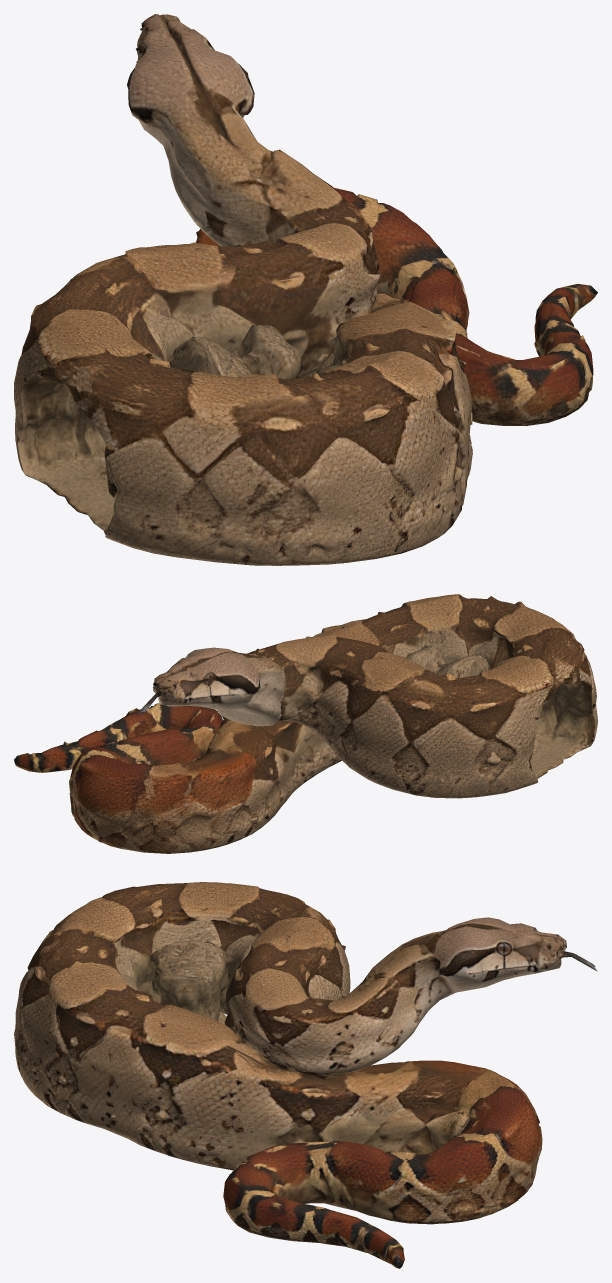
File: boa-tripo-h31.glb
3 renders of one model, top to bottom at view 1: azimuth 30°, elevation 25°; view 2: azimuth 150°, elevation 25°; view 3: azimuth 270°, elevation 25°, orthographic. The views are drawn at different scales.
Parts seen in each view (by area): view 1: tripo_node_11826964-1136-4bb8-baa5-68de366ca029; view 2: tripo_node_11826964-1136-4bb8-baa5-68de366ca029; view 3: tripo_node_11826964-1136-4bb8-baa5-68de366ca029.
Part boxes in pixels (x1,y1,x2,y2): tripo_node_11826964-1136-4bb8-baa5-68de366ca029: [14, 14, 597, 565]; tripo_node_11826964-1136-4bb8-baa5-68de366ca029: [14, 594, 597, 853]; tripo_node_11826964-1136-4bb8-baa5-68de366ca029: [14, 882, 597, 1268].
Bounding box in the file's own units: 0.9669 × 0.4075 × 0.9721.
1 material, 1 textured.
